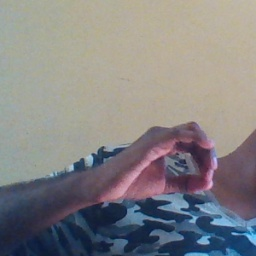O: (99, 114, 225, 203)
